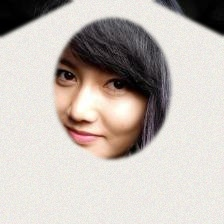Mukena: (0, 11, 224, 224)
